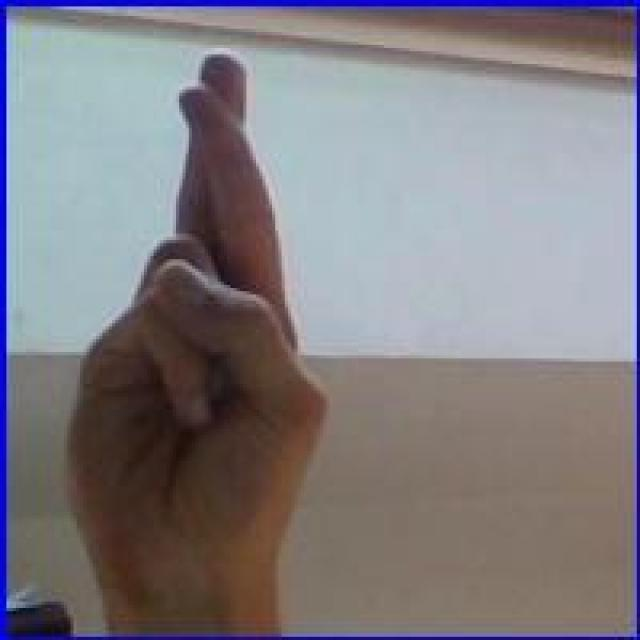R: (51, 47, 333, 590)
